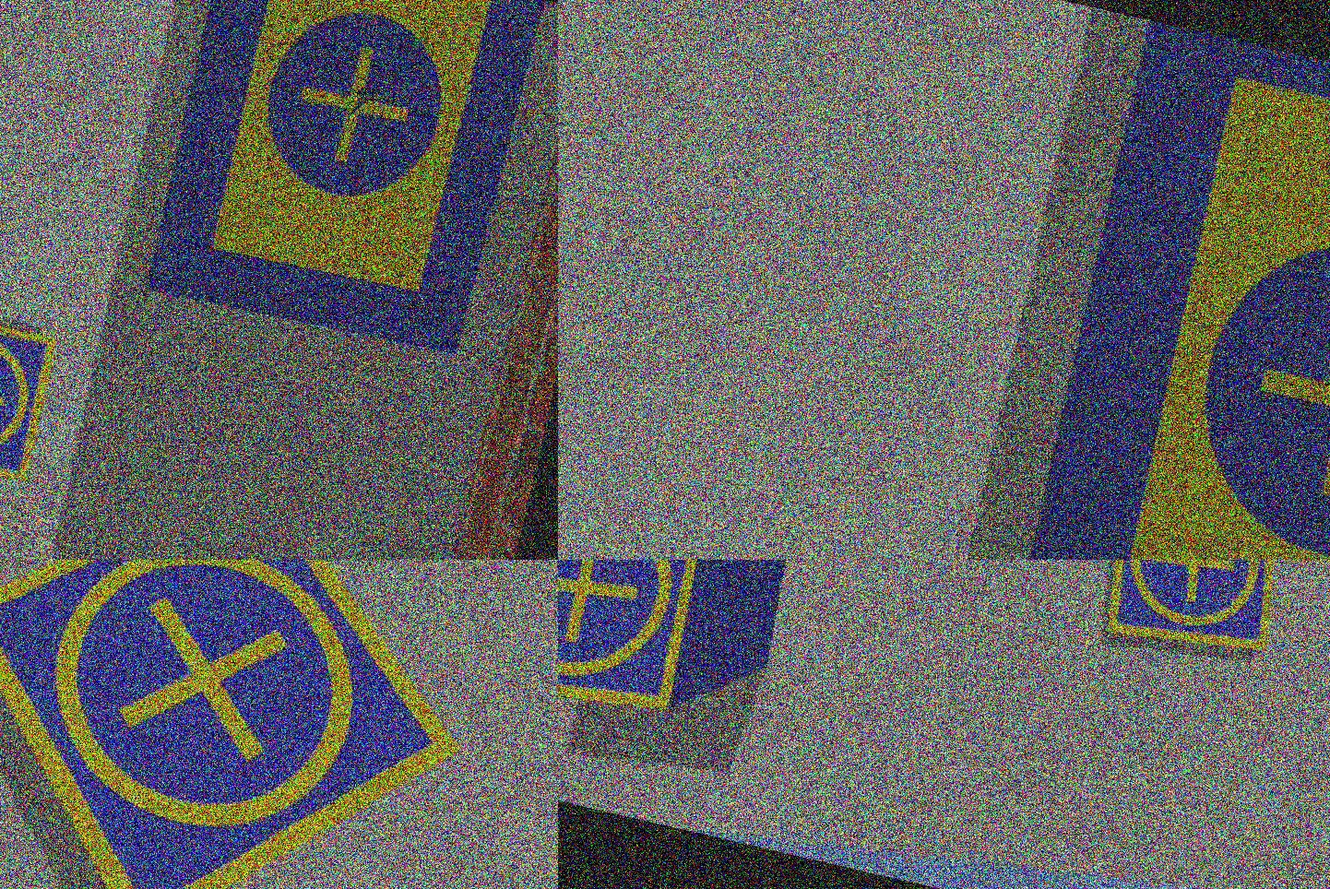large_base: (985, 19, 1330, 561), (143, 1, 547, 363)
small_base: (1, 561, 520, 889), (558, 561, 719, 738), (1091, 561, 1302, 673), (1, 302, 63, 487)
